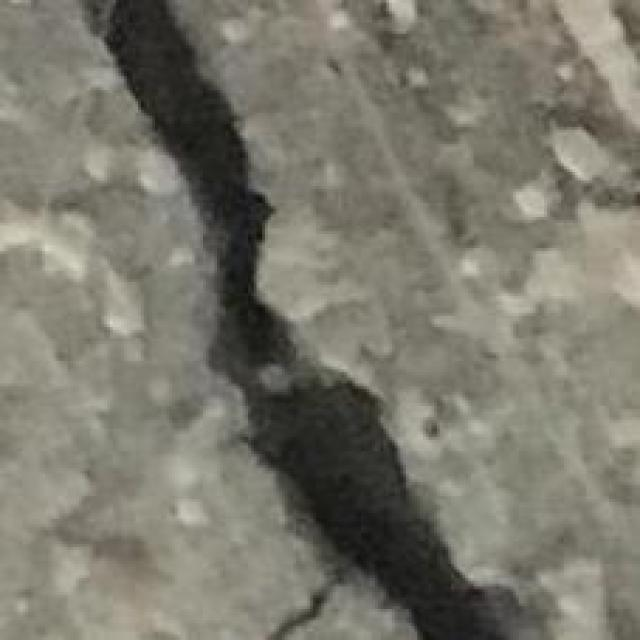Crack: (76, 0, 544, 637)
